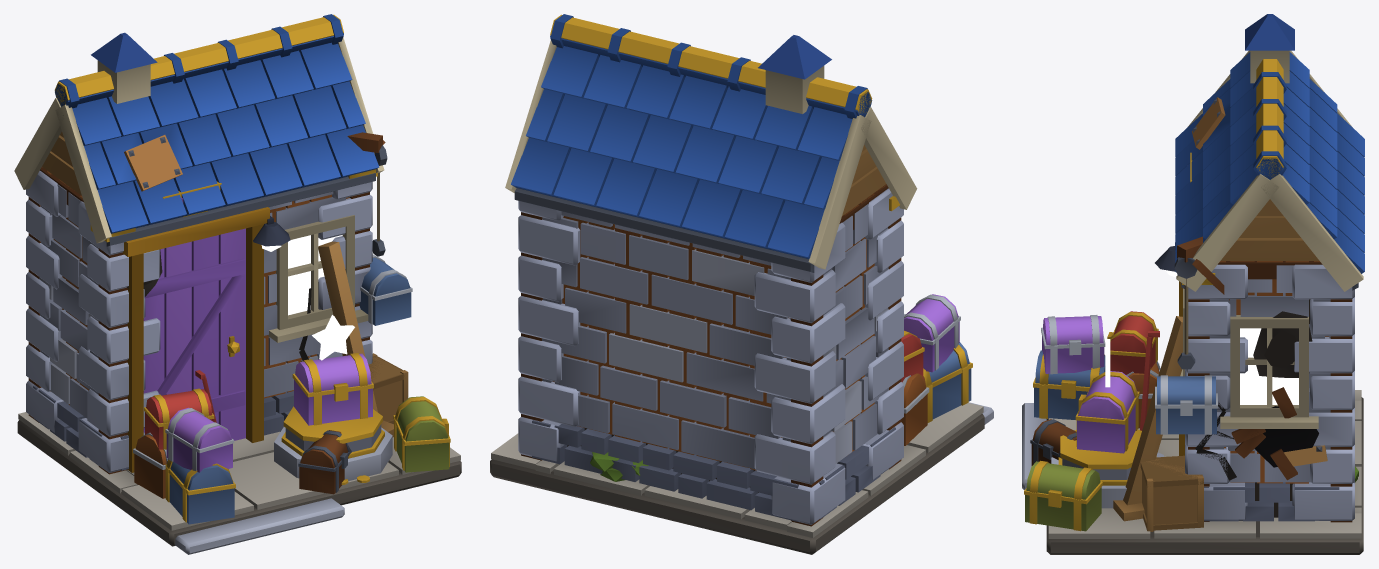
The model's file is b_kistenlager.glb.
3 renders of one model, left to right at view 1: azimuth 30°, elevation 25°; view 2: azimuth 150°, elevation 25°; view 3: azimuth 270°, elevation 25°, orthographic. The views are drawn at different scales.
Parts seen in each view (by area): view 1: body, lv4_haus, lv4_ausbau, bob_kiste, dmg2_bruch, sway_haken, lvmax3_haus, win_glow, pulse_schein_glow; view 2: body, lv4_haus, lv4_ausbau, lvmax3_haus; view 3: body, lv4_haus, lv4_ausbau, dmg2_bruch, bob_kiste, sway_haken, lvmax3_haus, dmg1_spuren, win_glow.
Part boxes in pixels (x1,y1,x2,y2): body: (14,14,461,554); lv4_haus: (26,171,372,472); lv4_ausbau: (54,14,450,472); bob_kiste: (292,353,373,425); dmg2_bruch: (298,241,393,494); sway_haken: (359,173,412,325); lvmax3_haus: (28,167,369,474); win_glow: (288,235,342,315); pulse_schein_glow: (312,315,354,360); body: (490,14,993,554); lv4_haus: (518,188,903,524); lv4_ausbau: (550,14,960,372); lvmax3_haus: (521,184,901,526); body: (1022,14,1364,554); lv4_haus: (1185,264,1354,520); lv4_ausbau: (1024,59,1283,531); dmg2_bruch: (1030,316,1318,521); bob_kiste: (1075,371,1139,453); sway_haken: (1155,279,1217,434); lvmax3_haus: (1188,261,1352,522); dmg1_spuren: (1195,311,1312,480); win_glow: (1240,328,1298,404).
Size of the model in its own units: 3.57 by 4.79 by 3.48.
